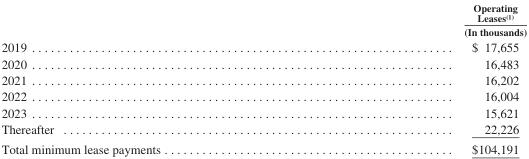table: (0, 1, 526, 156)
table column: (0, 1, 311, 156), (311, 1, 526, 156)
table column header: (0, 1, 526, 38)
table row: (0, 1, 526, 38), (0, 120, 526, 139), (0, 38, 526, 55), (0, 87, 526, 104), (0, 139, 526, 156), (0, 55, 526, 71), (0, 71, 526, 87), (0, 104, 526, 120)
